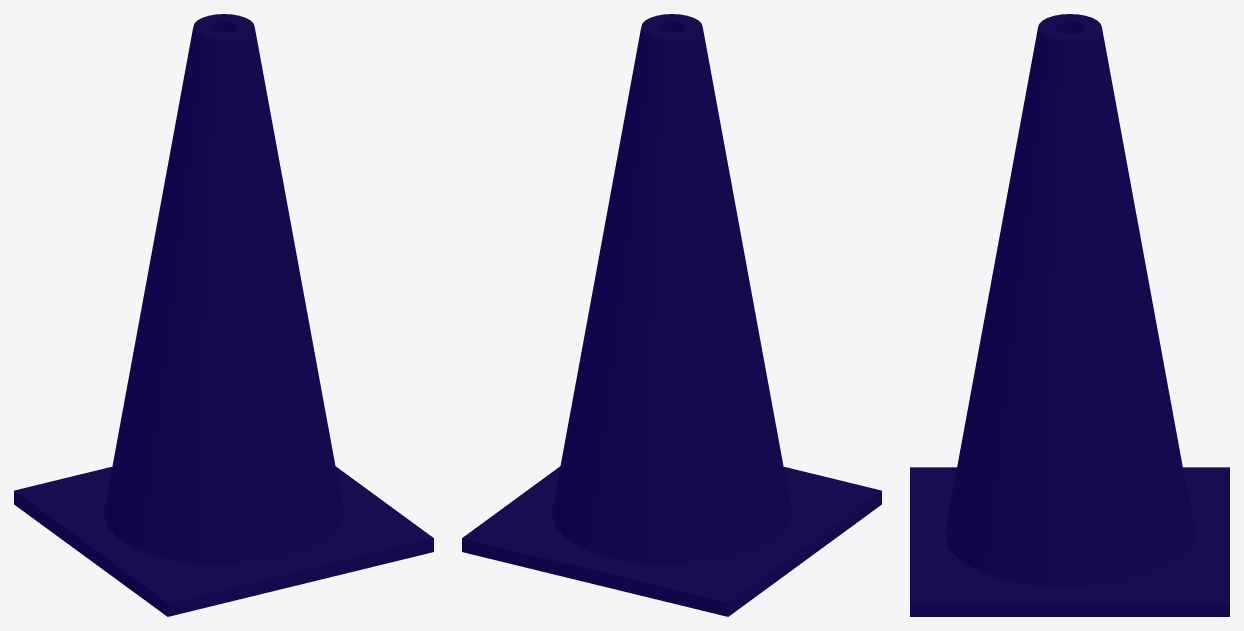
File: Comm Cone.glb
3 views of the same model, side by side, from view 1: azimuth 30°, elevation 25°; view 2: azimuth 150°, elevation 25°; view 3: azimuth 270°, elevation 25° (orthographic). The views are drawn at different scales.
Visible parts, largest first — view 1: Box001; view 2: Box001; view 3: Box001.
Boxes of the visible parts, <box> form: Box001: <box>14,14,433,616</box>; Box001: <box>462,14,881,616</box>; Box001: <box>910,14,1229,616</box>.
Size of the model in its own units: 10 by 18 by 10.
